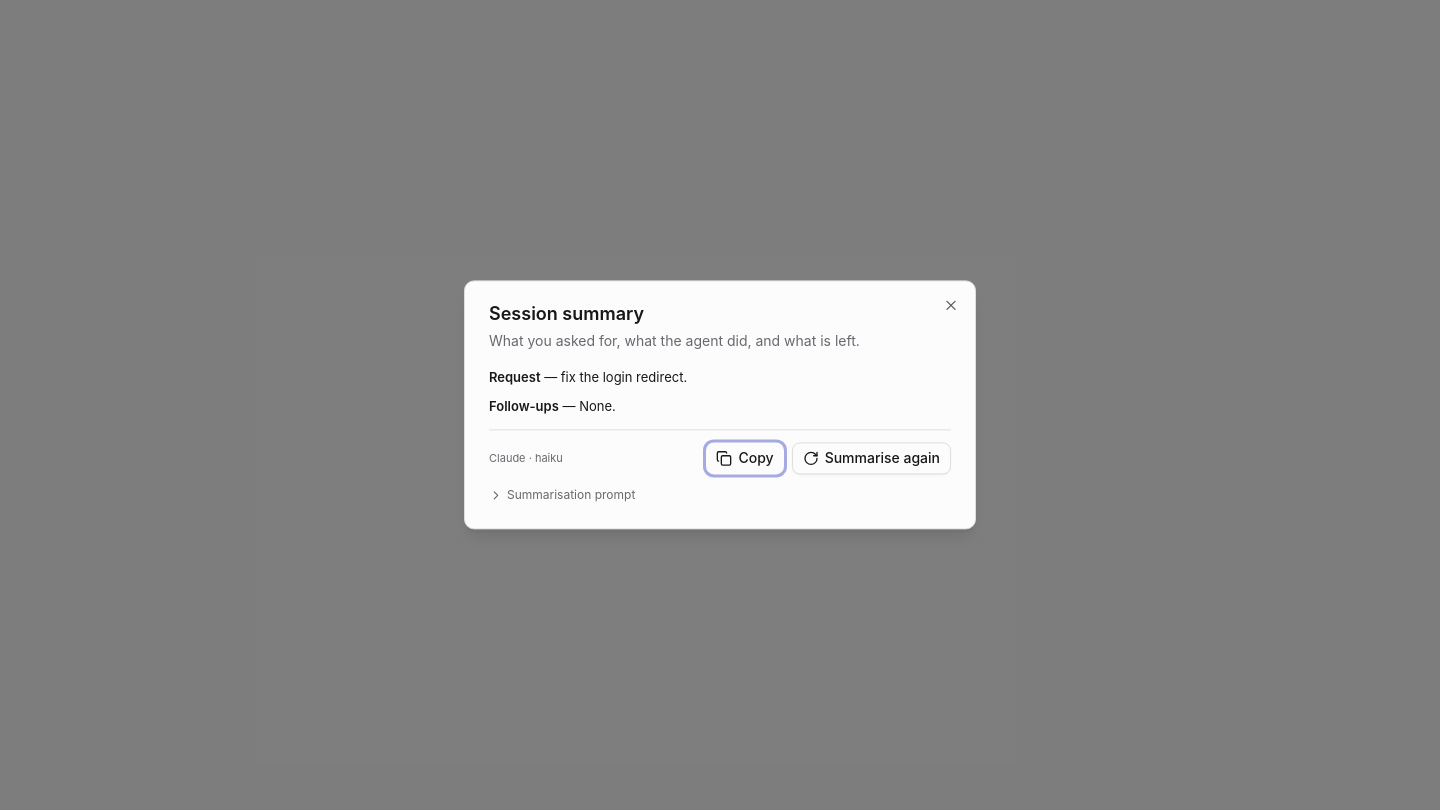
the session summary panel › the prompt editor › reports a save that failed instead of summarising again
Click the button "Summarisation prompt" at (562, 496), box [489, 487, 635, 505]
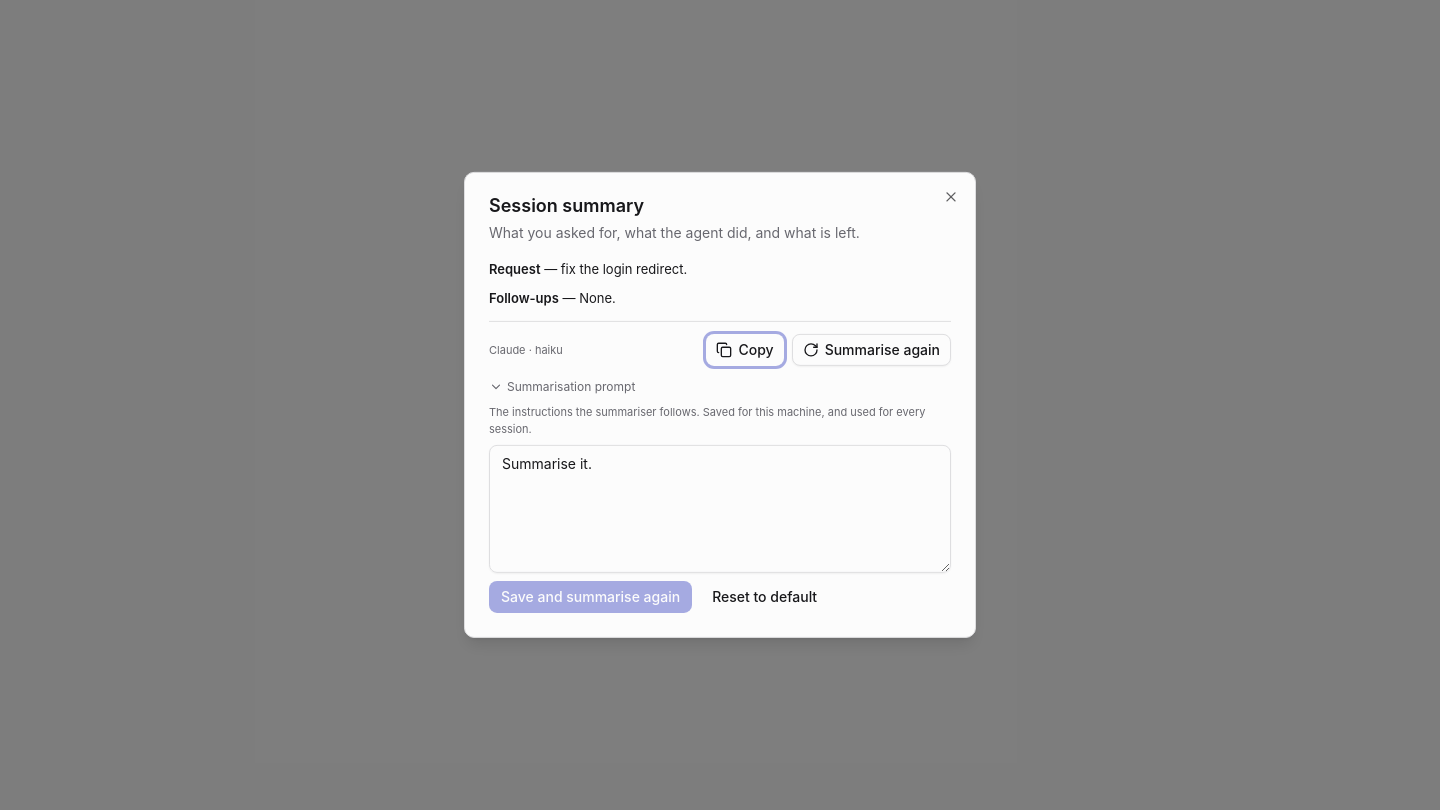
Replace the text in the text box named "Summarisation prompt" with "Be terse." at (720, 509), box [489, 445, 951, 573]
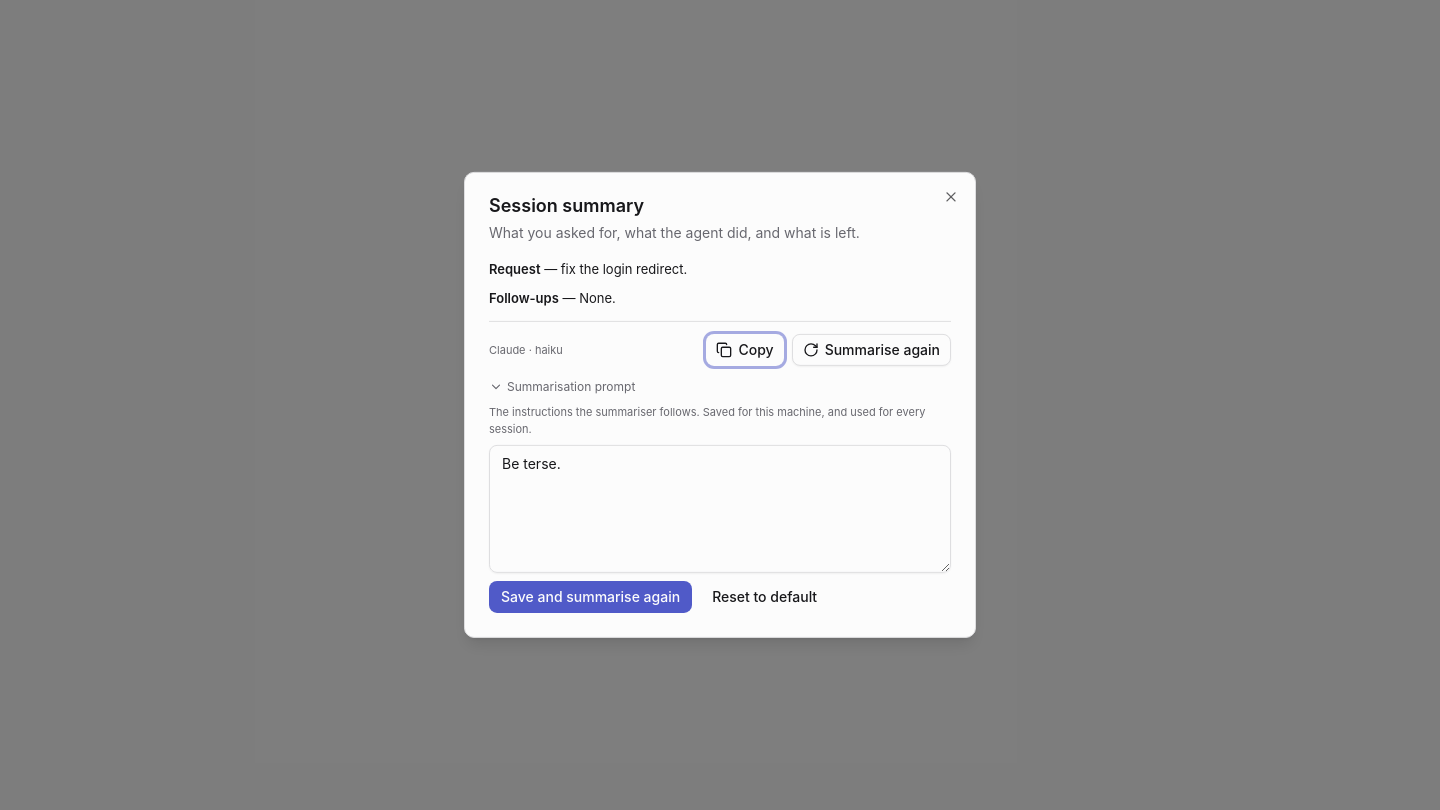
Click the button "Save and summarise again" at (591, 597), box [489, 581, 692, 613]
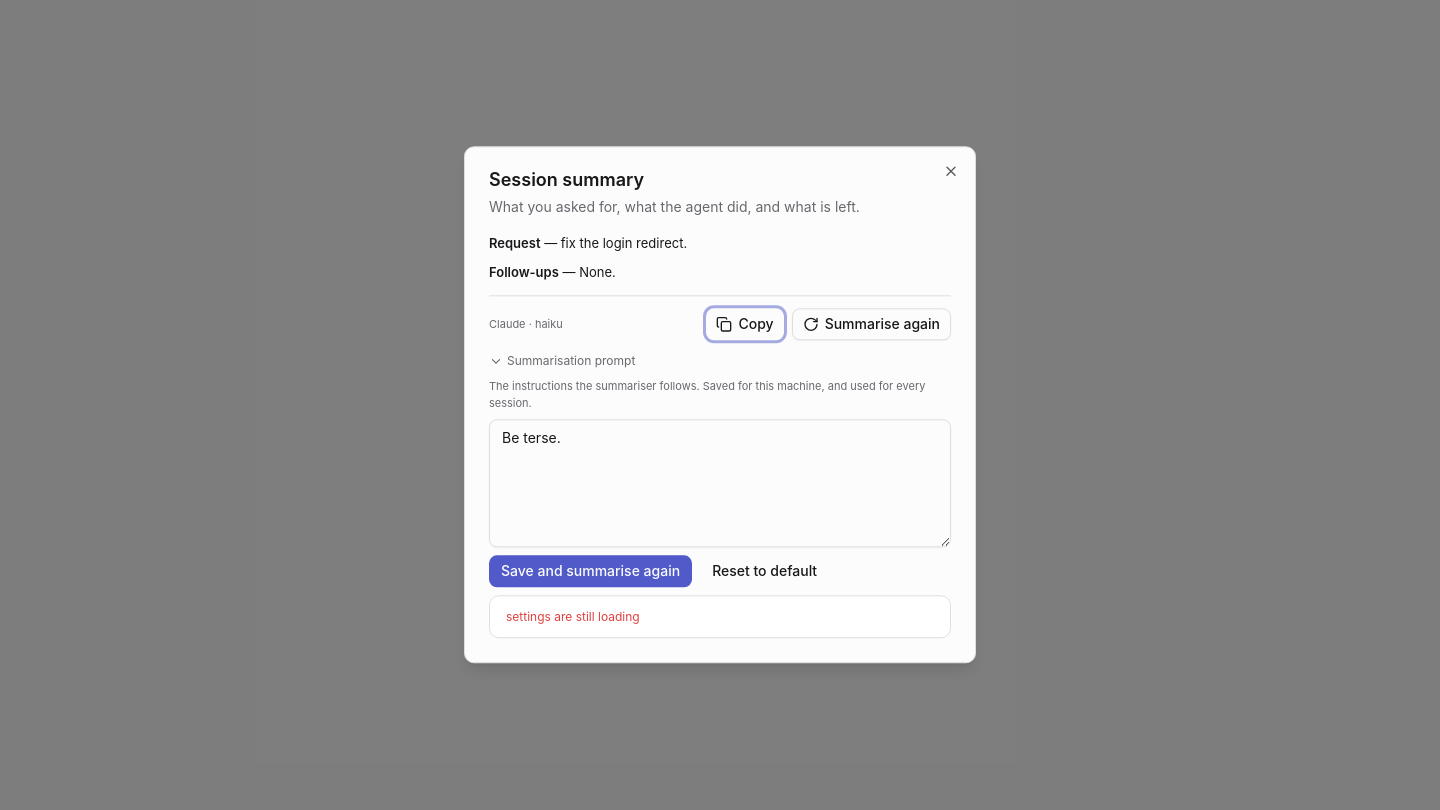
Expected: the text "settings are still loading" is shown, [506, 610, 640, 625]
